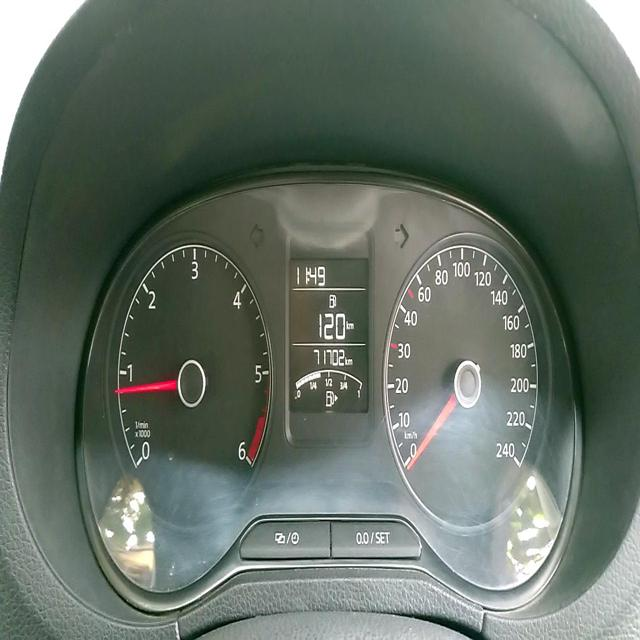odometer: (312, 345, 345, 370)
